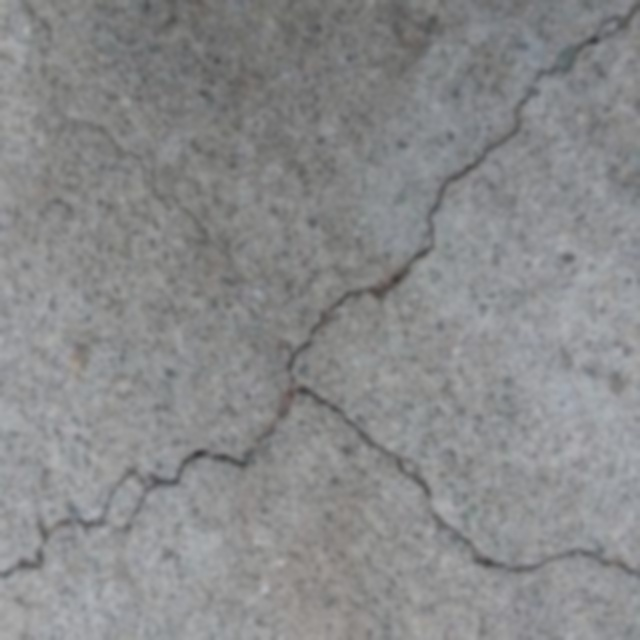SurfaceCrack: (20, 4, 640, 608)
